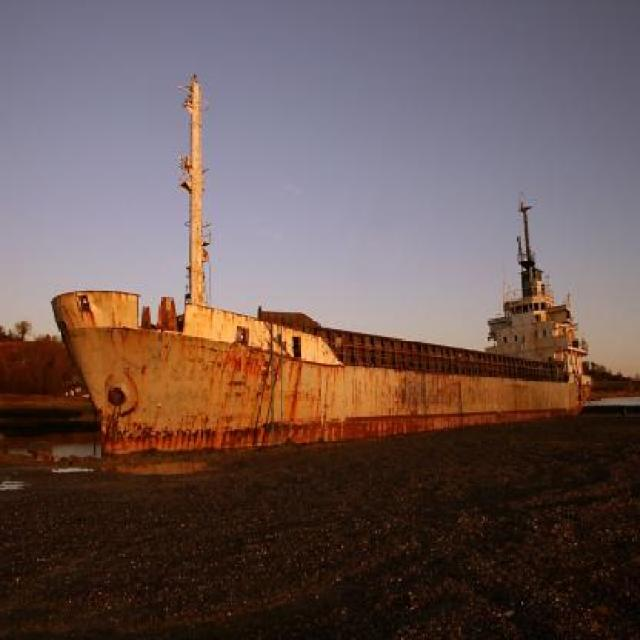corrosion: (49, 67, 594, 464)
